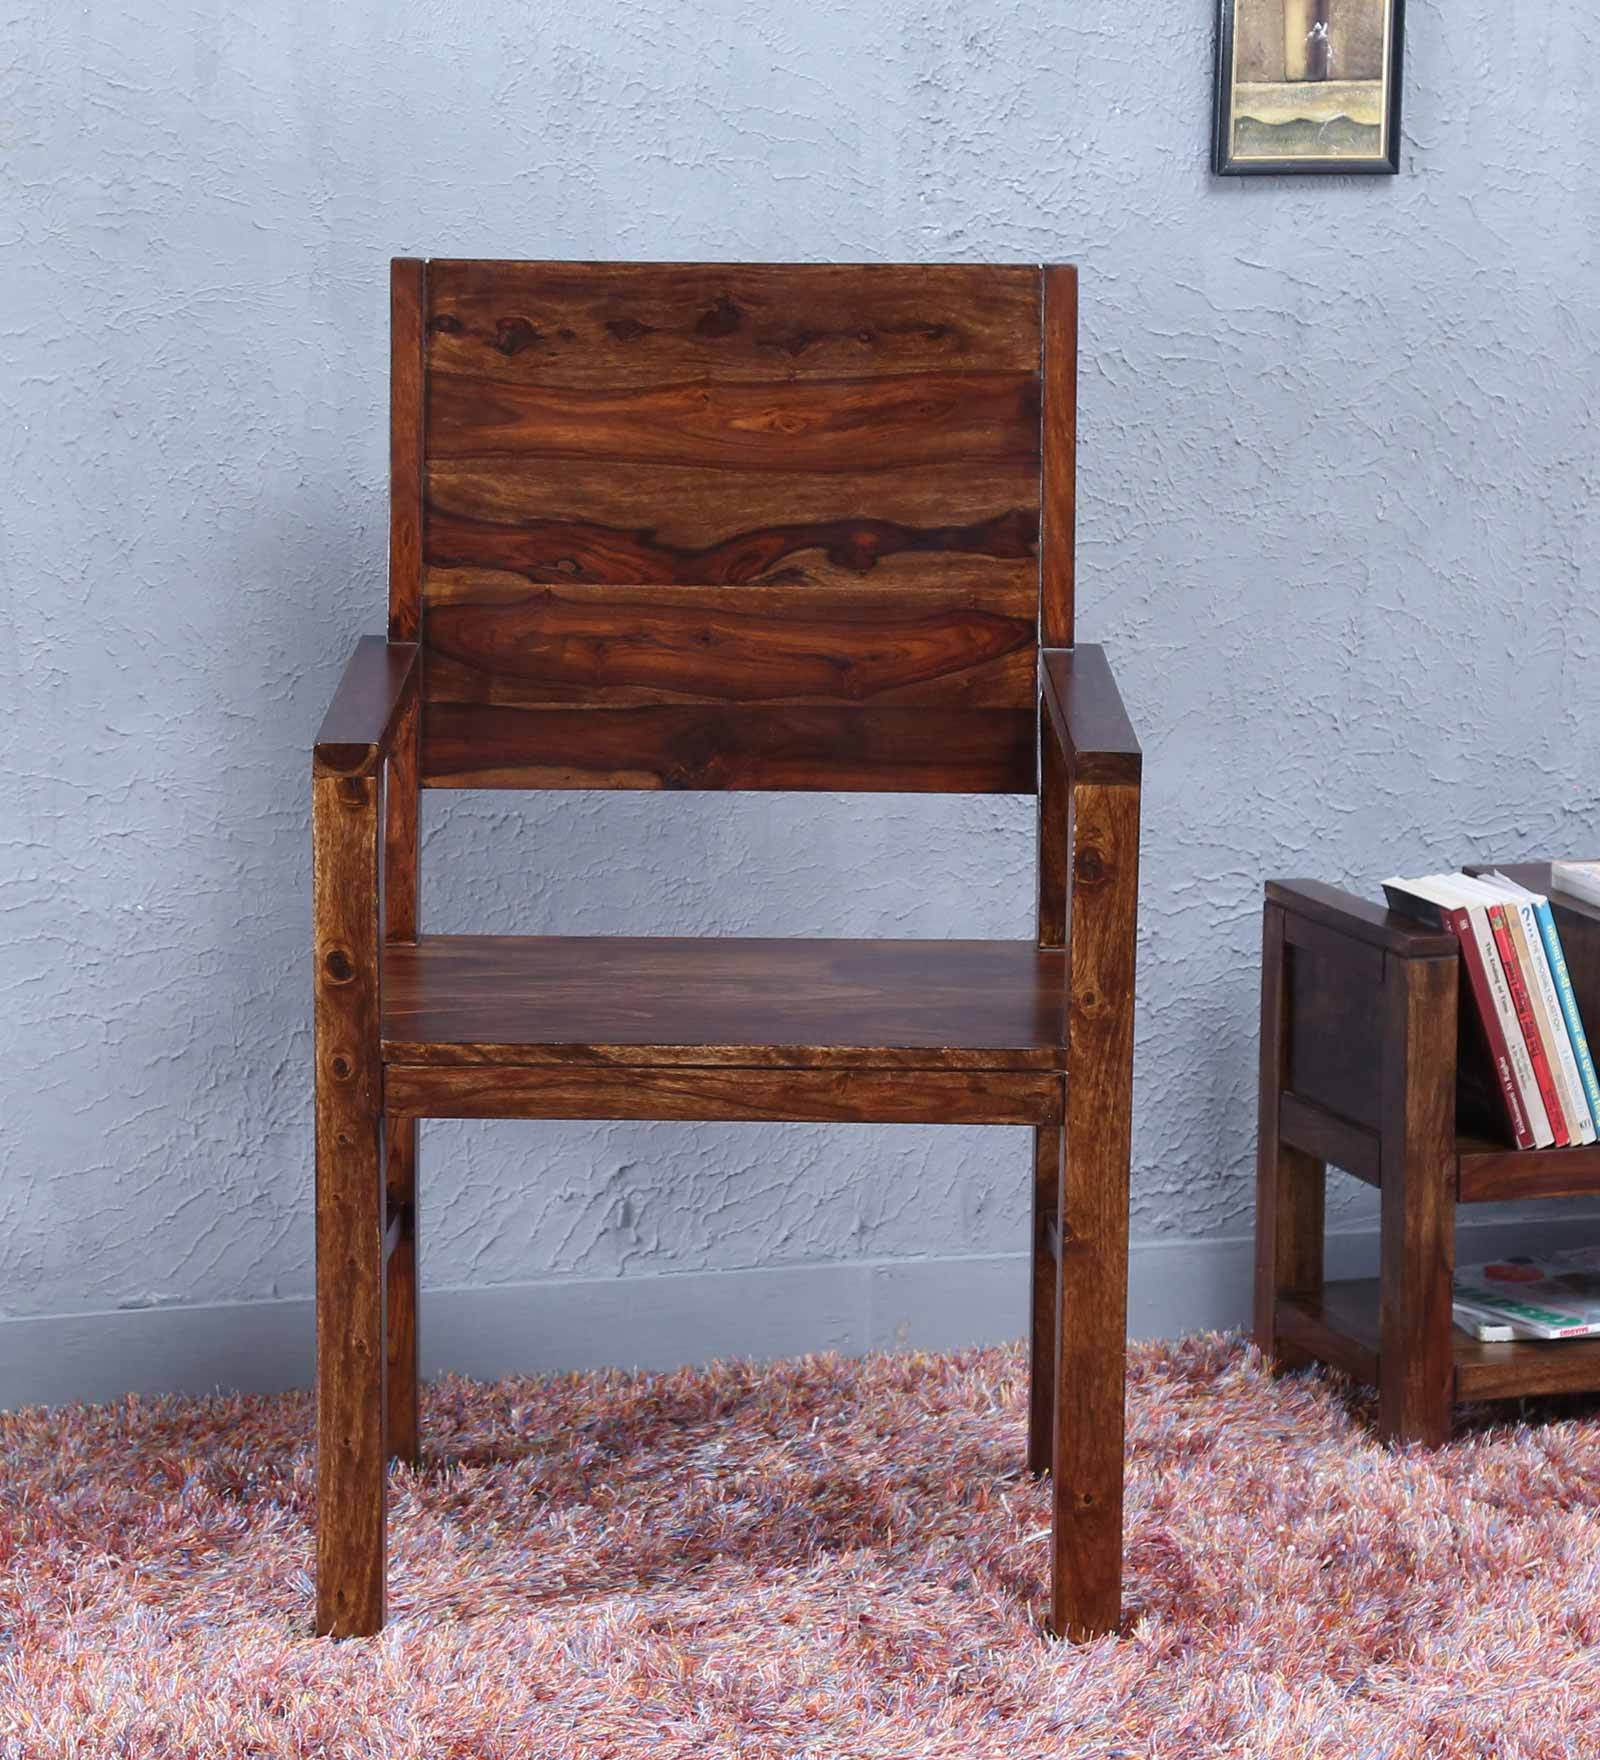Oriel Arm Chair in Honey oak Finish by Woodsworth: (307, 222, 1149, 1643)
